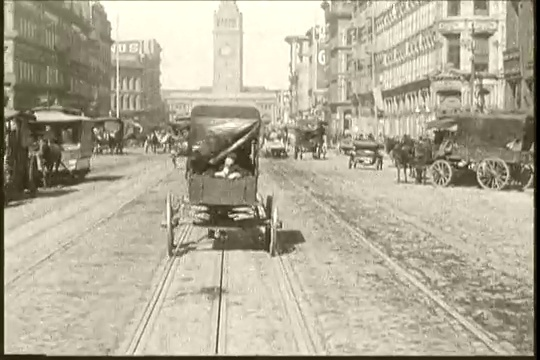car: (343, 129, 385, 169)
carriage: (160, 94, 284, 258), (386, 105, 532, 195), (92, 114, 126, 158), (291, 119, 328, 158)
trolley: (14, 106, 96, 193)
